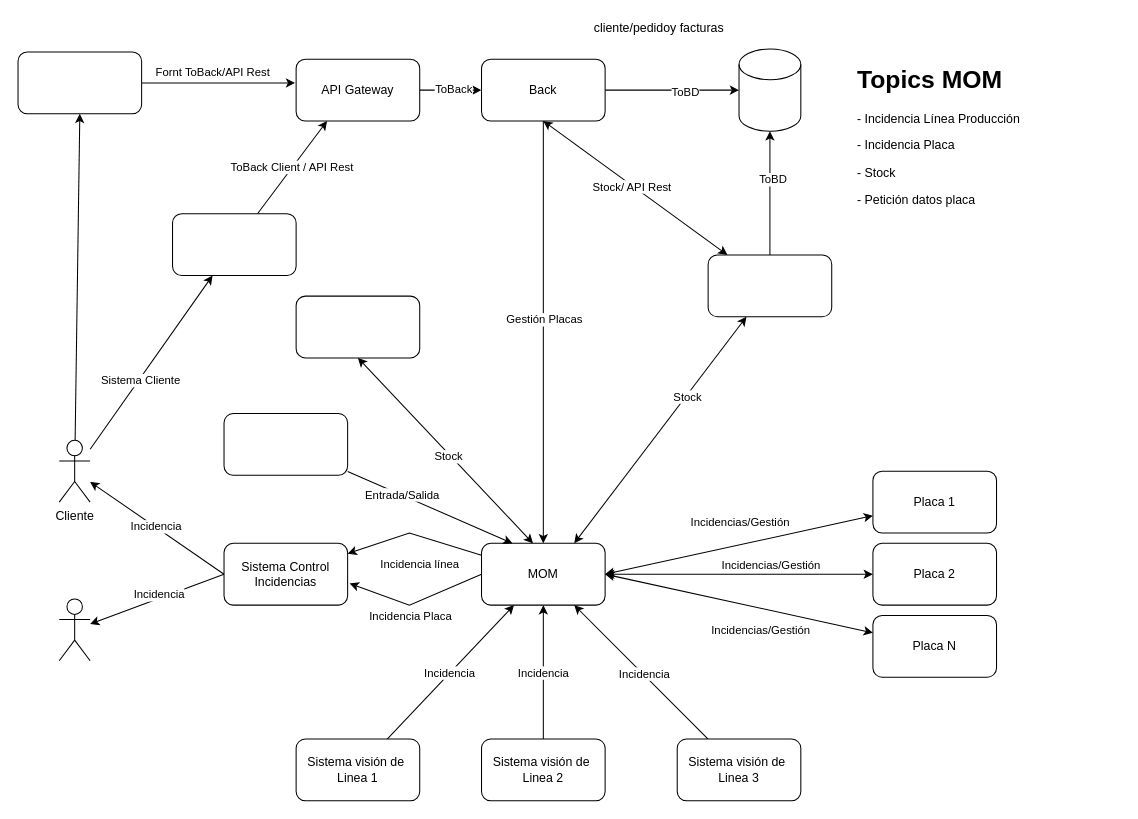
The diagram is 1138 pixels wide and 819 high, and some of its shapes have lost their labels. The shapes that lost their labels are listed below. From the top down, each one's box as (x1, y1, x2, y2) in pixels, then its label:
(17, 51, 142, 114): Front
(171, 213, 296, 276): Front Cliente
(707, 254, 832, 317): ERP
(295, 295, 420, 358): Sub sistema de Almacén
(223, 413, 348, 475): Entrada/Salida Almacén
(58, 598, 90, 661): Encargado
